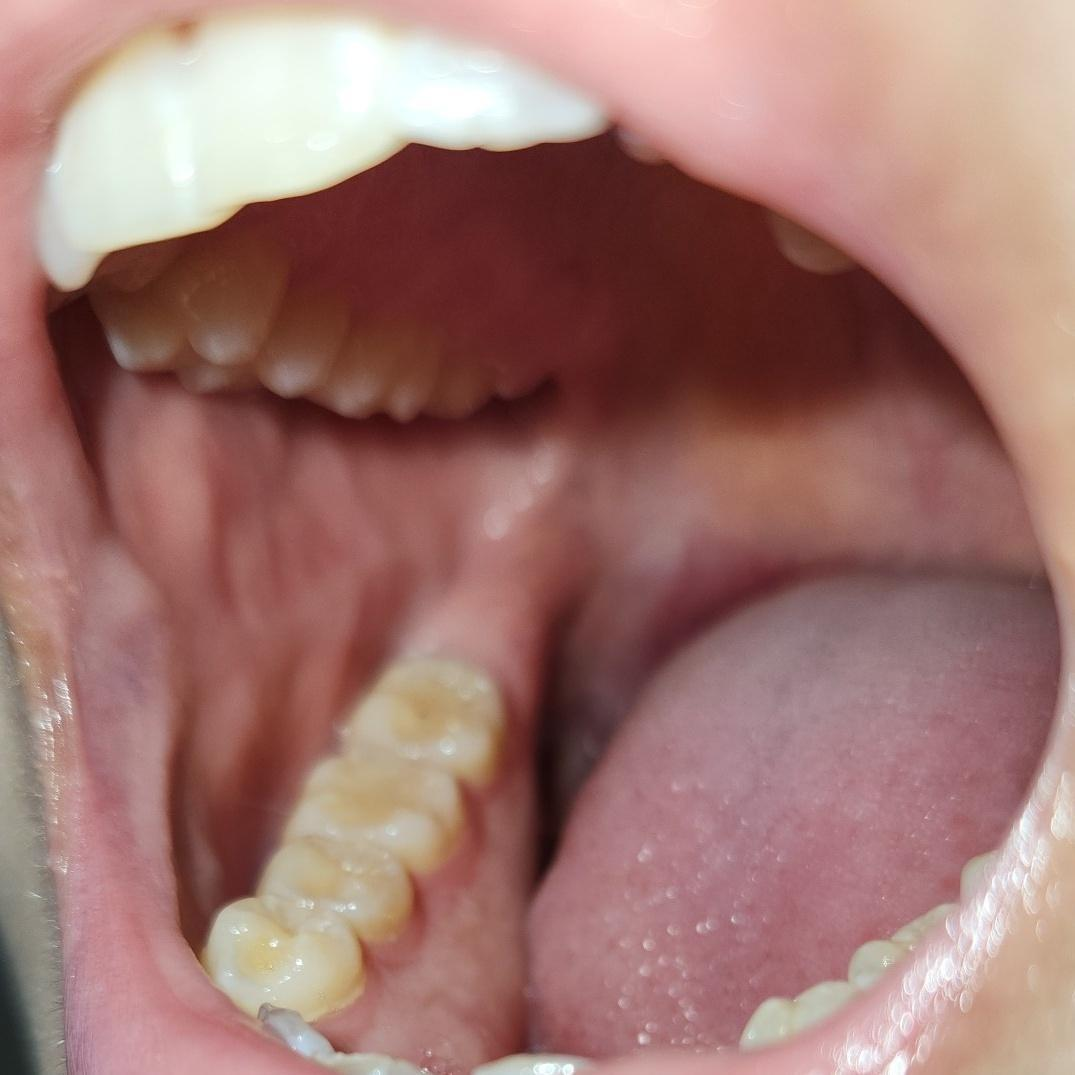Healthy: (33, 17, 418, 248), (200, 756, 463, 1014)
